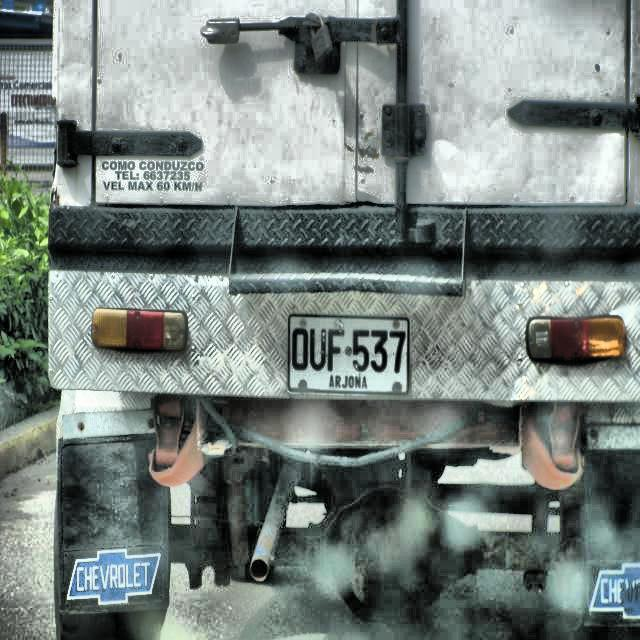plate: (287, 314, 412, 397)
